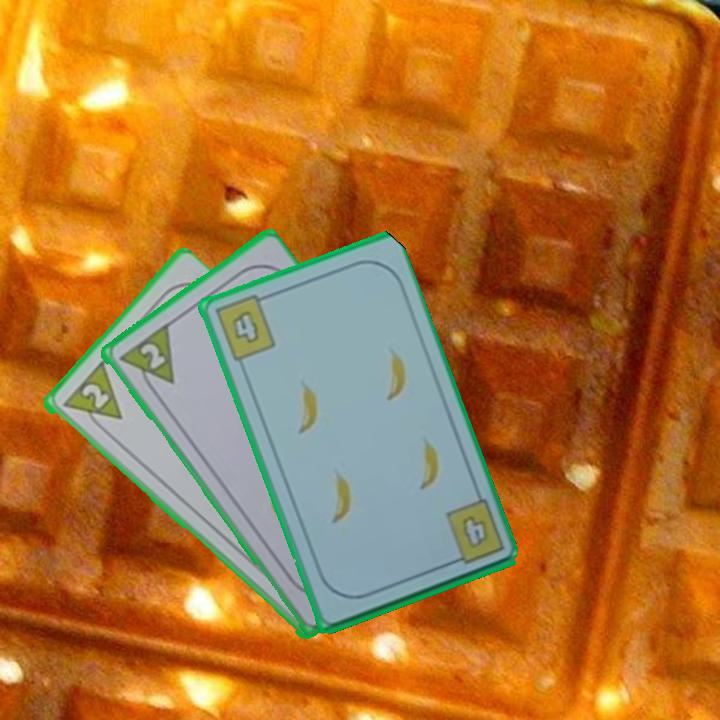2p: (57, 359, 125, 438), (114, 320, 178, 399)
4b: (211, 290, 278, 365), (441, 496, 507, 568)
